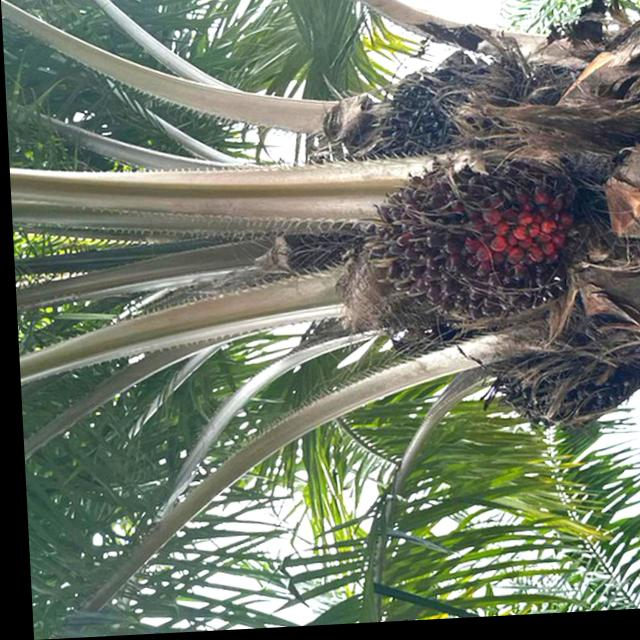ripe: (363, 160, 590, 327), (480, 340, 640, 440), (372, 67, 483, 156)
